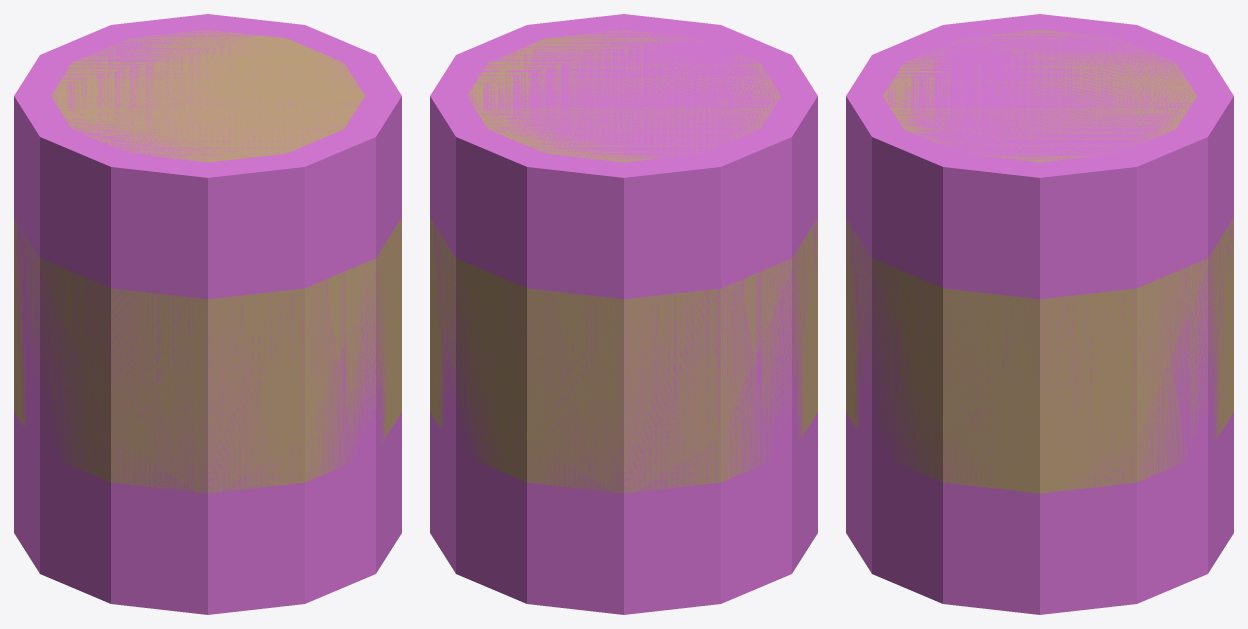
Rendered from barrel.glb.
The picture shows the model from 3 angles, left to right: view 1: azimuth 30°, elevation 25°; view 2: azimuth 150°, elevation 25°; view 3: azimuth 270°, elevation 25°; orthographic projection.
Parts seen in each view (by area): view 1: col_barrel, BarrelStaves; view 2: col_barrel, BarrelStaves; view 3: col_barrel, BarrelStaves.
Boxes of the visible parts, x1,y1,x2,y2 form: col_barrel: (14,14,401,614); BarrelStaves: (14,30,401,493); col_barrel: (430,14,817,614); BarrelStaves: (430,30,817,493); col_barrel: (846,14,1233,614); BarrelStaves: (846,29,1233,493).
Size of the model in its own units: 0.74 by 0.92 by 0.74.
